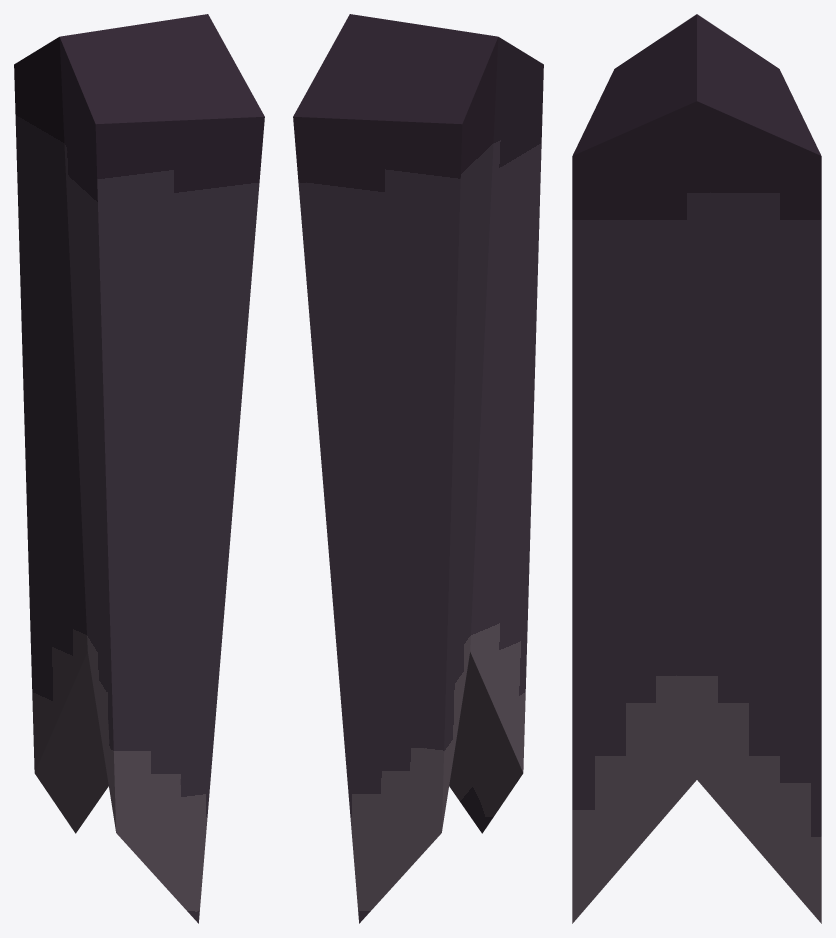
The model's file is spider_fist.glb.
3 views of the same model, side by side, from view 1: azimuth 30°, elevation 25°; view 2: azimuth 150°, elevation 25°; view 3: azimuth 270°, elevation 25° (orthographic).
Visible parts, largest first — view 1: Cube.030; view 2: Cube.030; view 3: Cube.030.
Boxes of the visible parts, <box> form: Cube.030: <box>14,14,264,923</box>; Cube.030: <box>293,14,543,923</box>; Cube.030: <box>572,14,821,923</box>.
Size of the model in its own units: 0.3932 by 2.11 by 0.547.
1 material, 1 textured.
